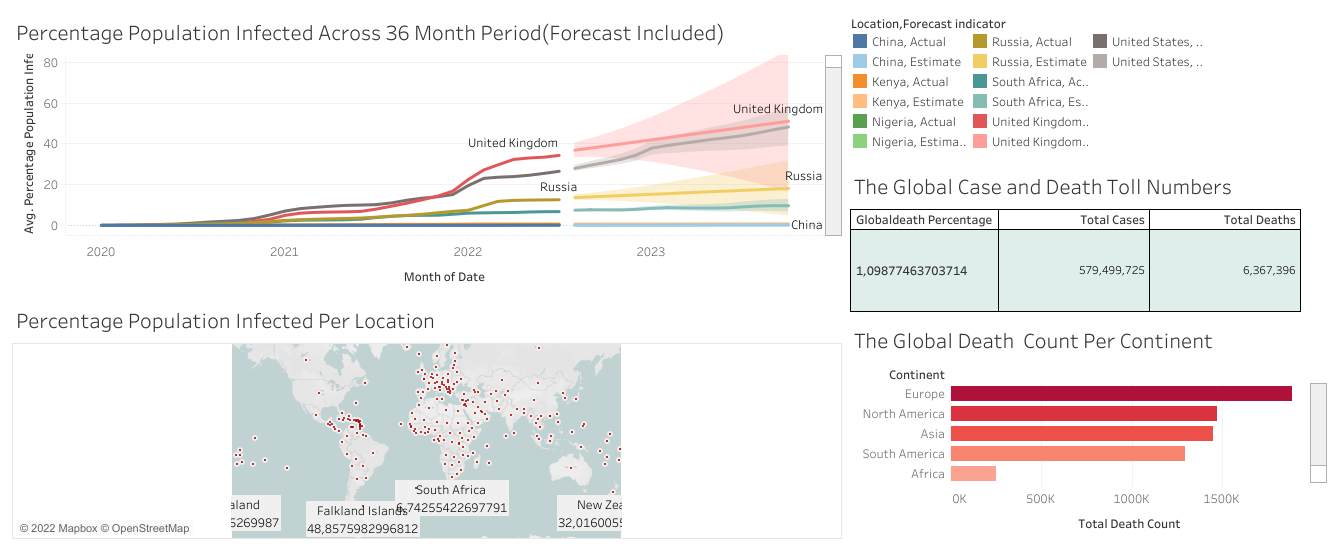

The dashboard page shown, as its layout file describes it:
{"tool":"tableau","page":{"name":"Dashboard 1","canvas":[1000,1000],"units":"permille","ordinal":0},"visuals":[{"type":"worksheet","title":"Sheet 4","mark":"Automatic","rows":["percentage_population_infected"],"cols":["DATE"],"box":[7.1,13.5,555.5,523.6]},{"type":"legend","title":"Sheet 4","param":"[federated.0yeps6o1mq2god1d1kyxe0766d2b].[none:location:nk]\n[federated.0yeps6o1m","box":[562.6,13.5,430.4,292.2]},{"type":"worksheet","title":"Sheet 1","mark":"Automatic","rows":["globaldeath_percentage"],"box":[562.6,305.7,430.4,268.6]},{"type":"worksheet","title":"Sheet 3","mark":"Automatic","box":[7.1,537.2,555.5,449.3]},{"type":"worksheet","title":"Sheet 2","mark":"Automatic","rows":["location"],"cols":["totaldeathcount"],"box":[562.6,574.3,430.4,412.2]}]}

Visuals, with their boxes on the dashboard's canvas, which has no fixed pixel size, in thousandths of its width and height (x1, y1, x2, y2). These are canvas units, not pixel positions in the 1338x550 screenshot, which may show the page scaled, cropped or inside an application window:
"Sheet 4" worksheet: (7,14,563,537)
"Sheet 4" legend: (563,14,993,306)
"Sheet 1" worksheet: (563,306,993,574)
"Sheet 3" worksheet: (7,537,563,986)
"Sheet 2" worksheet: (563,574,993,986)
